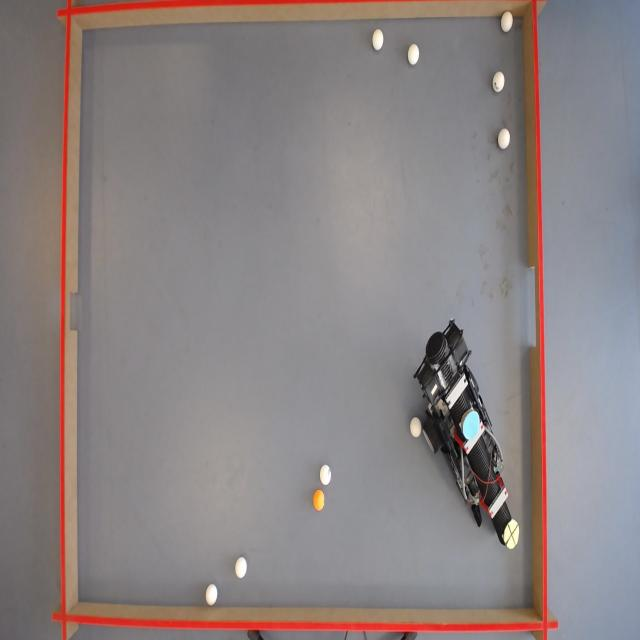orange: (313, 491, 326, 512)
robot: (414, 316, 525, 554)
robot-front: (506, 520, 522, 550)
robot-rear: (461, 410, 481, 441)
white: (205, 584, 219, 607), (408, 45, 422, 67), (500, 10, 513, 32), (373, 29, 386, 51), (235, 557, 248, 579), (319, 464, 332, 486), (493, 71, 506, 93), (497, 130, 511, 150), (410, 418, 423, 438)
